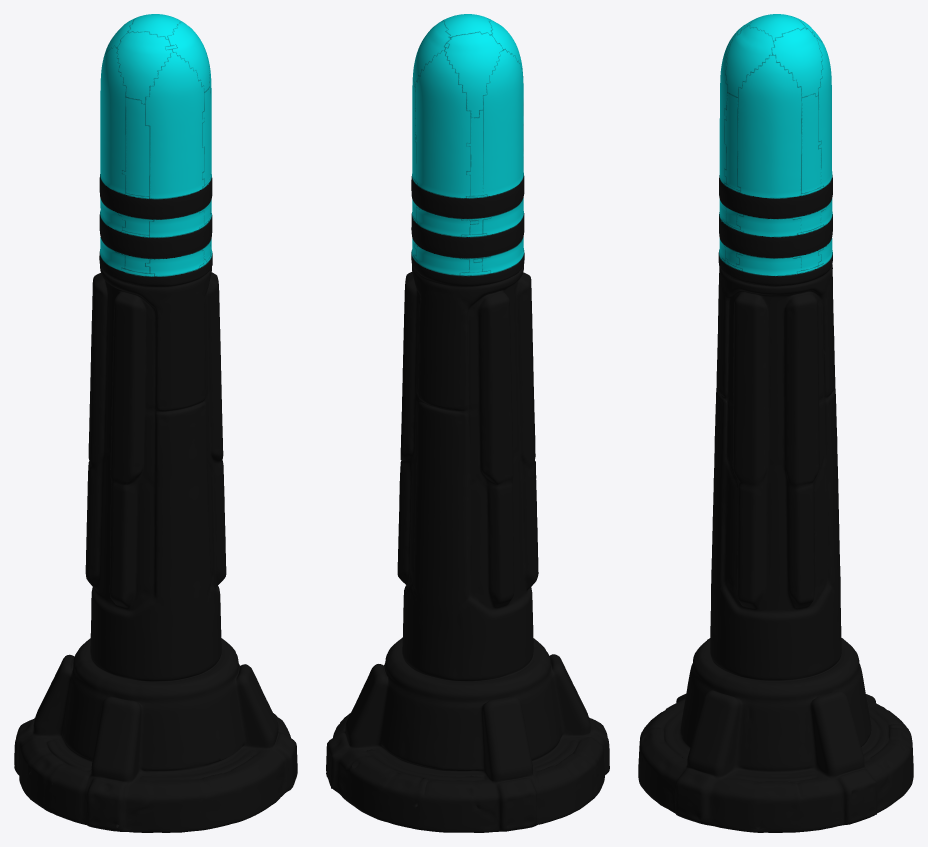
File: tripo_convert_40ef5e6d-5980-4636-9c79-0a3727dbfcb0.fbx
3 renders of one model, left to right at view 1: azimuth 30°, elevation 25°; view 2: azimuth 150°, elevation 25°; view 3: azimuth 270°, elevation 25°, orthographic.
Parts seen in each view (by area): view 1: tripo_node_40ef5e6d; view 2: tripo_node_40ef5e6d; view 3: tripo_node_40ef5e6d.
Boxes of the visible parts, <box> form: tripo_node_40ef5e6d: <box>14,14,297,832</box>; tripo_node_40ef5e6d: <box>326,14,609,832</box>; tripo_node_40ef5e6d: <box>638,14,913,832</box>.
Bounding box in the file's own units: 0.323 × 0.9787 × 0.3227.
1 material, 1 textured.
